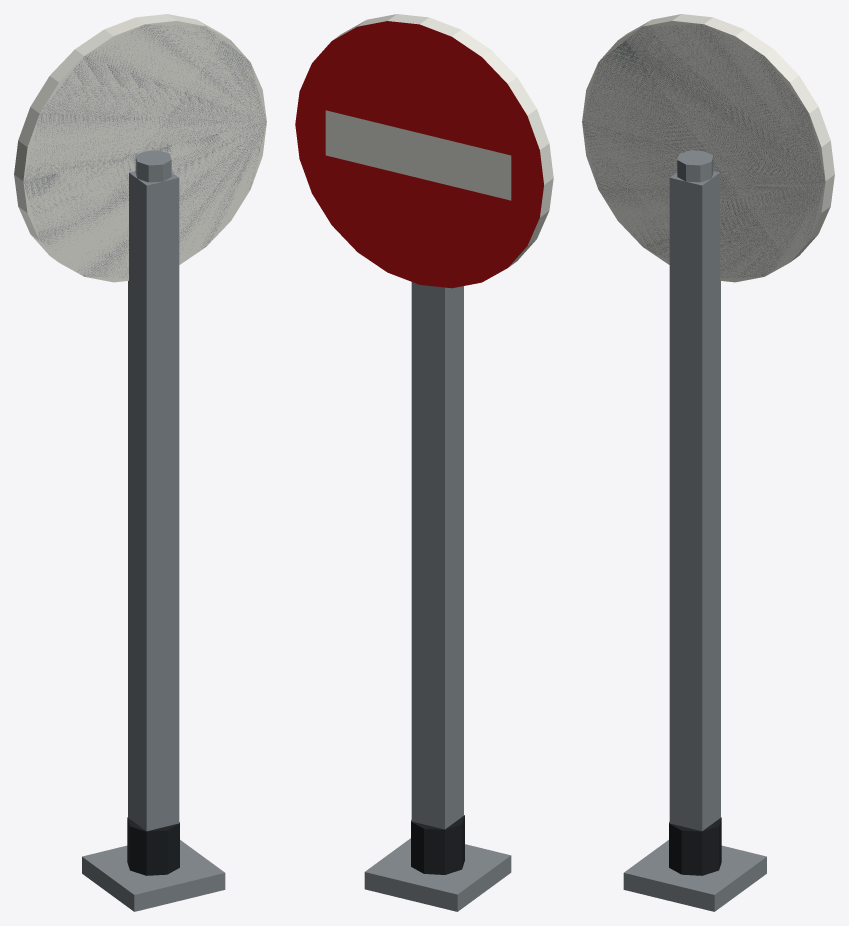
File: no-entry-sign.glb
3 views of the same model, side by side, from view 1: azimuth 30°, elevation 25°; view 2: azimuth 150°, elevation 25°; view 3: azimuth 330°, elevation 25° (orthographic). The views are drawn at different scales.
Parts seen in each view (by area): view 1: no-entry-sign (×2); view 2: no-entry-sign (×2); view 3: no-entry-sign (×2).
Boxes of the visible parts, x1=… form: no-entry-sign (×2): x1=14, y1=14, x2=266, y2=911; no-entry-sign (×2): x1=295, y1=14, x2=553, y2=911; no-entry-sign (×2): x1=582, y1=14, x2=834, y2=911.
Bounding box in the file's own units: 2.1 × 7.01 × 0.784.
